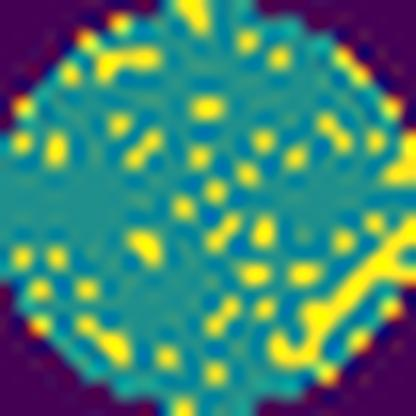Scratch: (265, 215, 416, 374)
